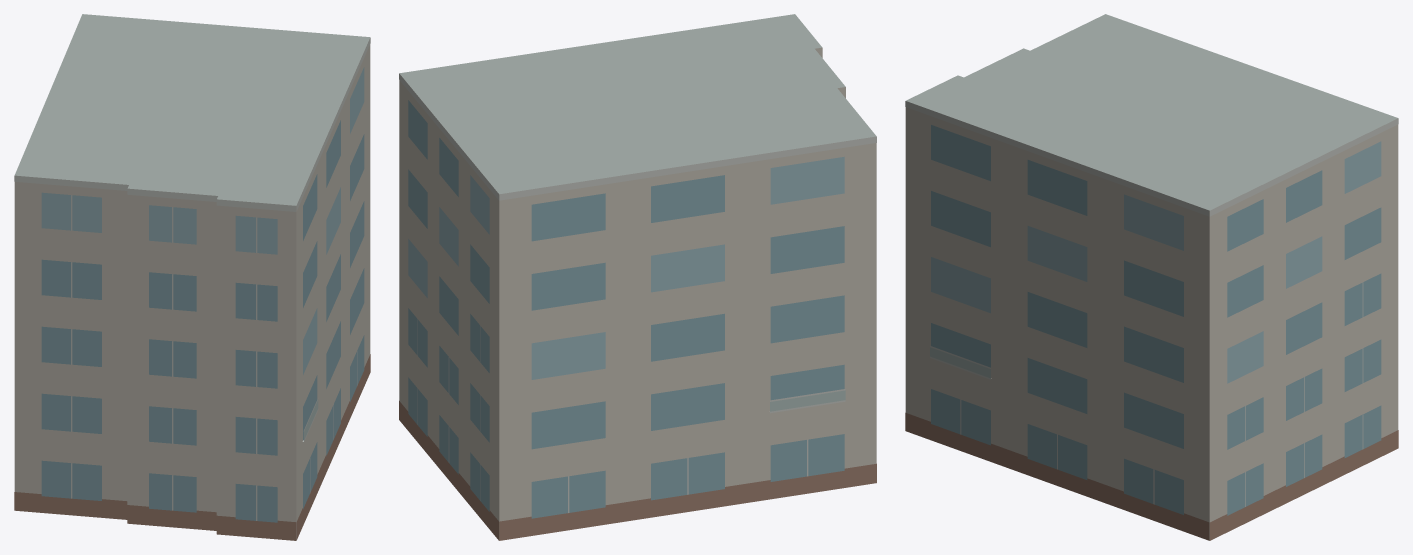
Rendered from survey-upis-32677673.glb.
3 renders of one model, left to right at view 1: azimuth 30°, elevation 25°; view 2: azimuth 150°, elevation 25°; view 3: azimuth 270°, elevation 25°, orthographic. The views are drawn at different scales.
Visible parts, largest first — view 1: survey-upis-32677673.tmp; view 2: survey-upis-32677673.tmp; view 3: survey-upis-32677673.tmp.
Boxes of the visible parts, box(x1,y1,x2,y2) form: survey-upis-32677673.tmp: box(14, 14, 370, 540); survey-upis-32677673.tmp: box(399, 14, 876, 540); survey-upis-32677673.tmp: box(905, 14, 1398, 540).
Size of the model in its own units: 16.87 by 13.2 by 17.87.
